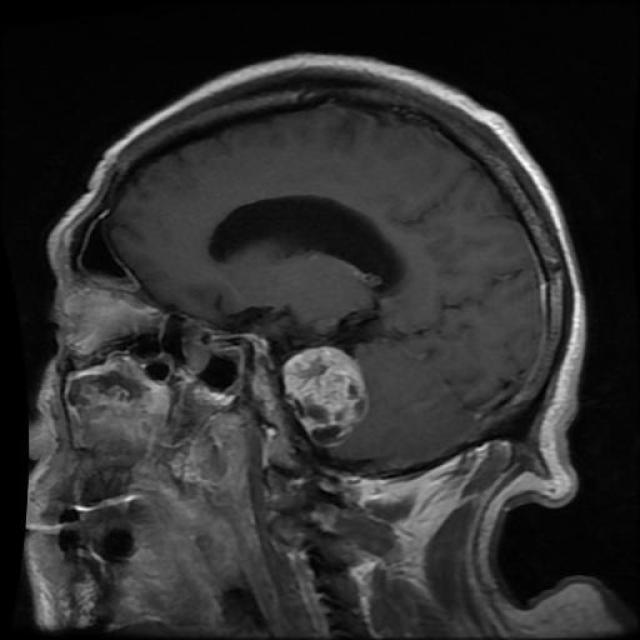meningioma: (280, 346, 371, 451)
